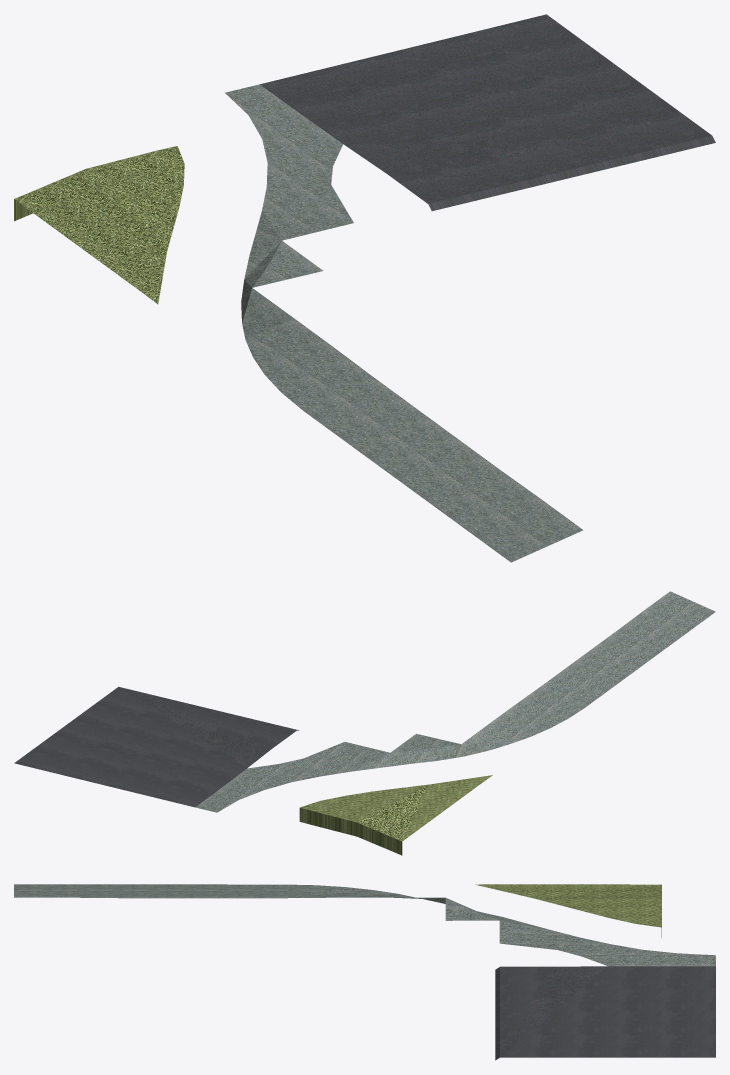
The model's file is lodassedge01.obj.
3 views of the same model, one above another, from view 1: azimuth 30°, elevation 25°; view 2: azimuth 150°, elevation 25°; view 3: azimuth 270°, elevation 25° (orthographic). The views are drawn at different scales.
Visible parts, largest first — view 1: lodasSedge01; view 2: lodasSedge01; view 3: lodasSedge01.
Part boxes in pixels (box(x1,y1,x2,y2)): lodasSedge01: box(14, 14, 715, 562); lodasSedge01: box(14, 591, 715, 855); lodasSedge01: box(14, 884, 715, 1060).
Bounding box in the file's own units: 160 × 10.01 × 260.
3 materials, 3 textured.
